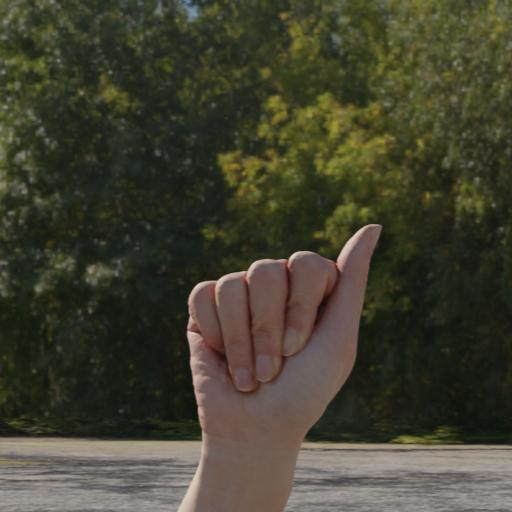A: (173, 184, 443, 476)
